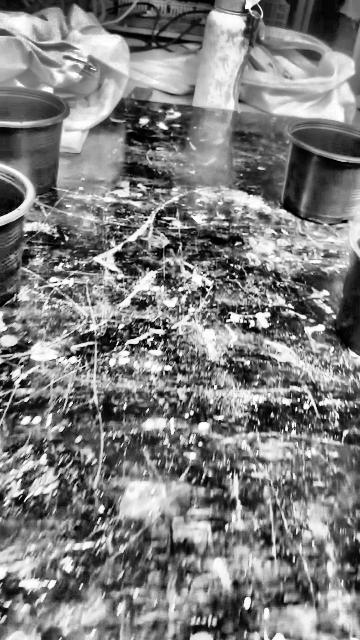pot: (0, 86, 69, 208), (281, 119, 359, 224)
